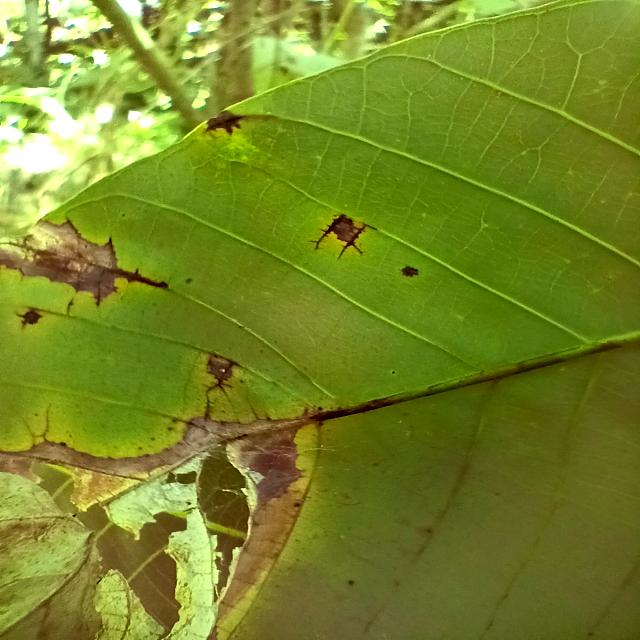Colletotrichum: (401, 265, 418, 278)
Corynespora: (308, 213, 378, 261), (203, 354, 243, 417), (118, 266, 168, 290), (203, 110, 248, 135), (14, 307, 44, 330)
Leaf-Blight: (0, 420, 301, 640), (0, 218, 75, 261)
